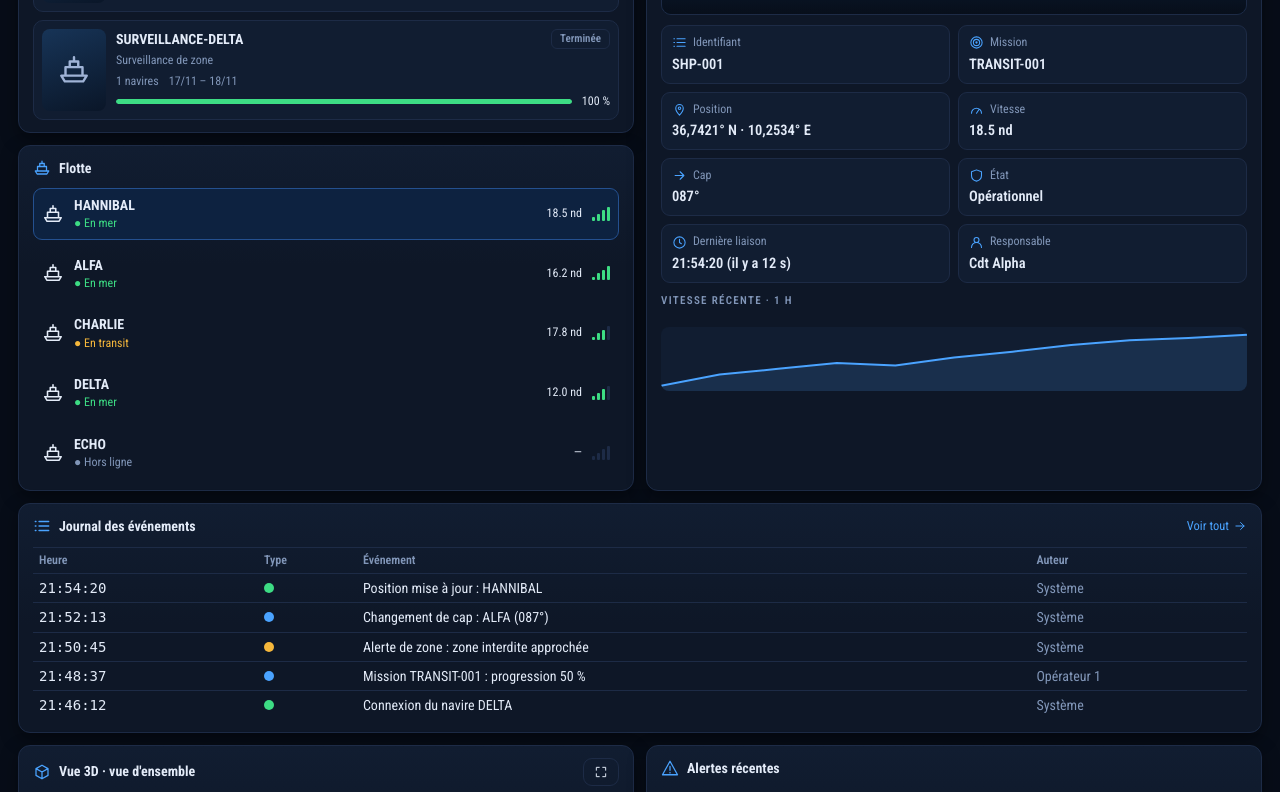
Test: routing and session guards › lands on the dashboard after sign-in and follows the selected ship
The image size is (1280, 792).
(page scrolled)
What coordinates should you click on to do the following:
click the button "DELTA ● En mer 12.0 nd"
I would click on:
 (92, 384)
Its box is [33,367,619,419].
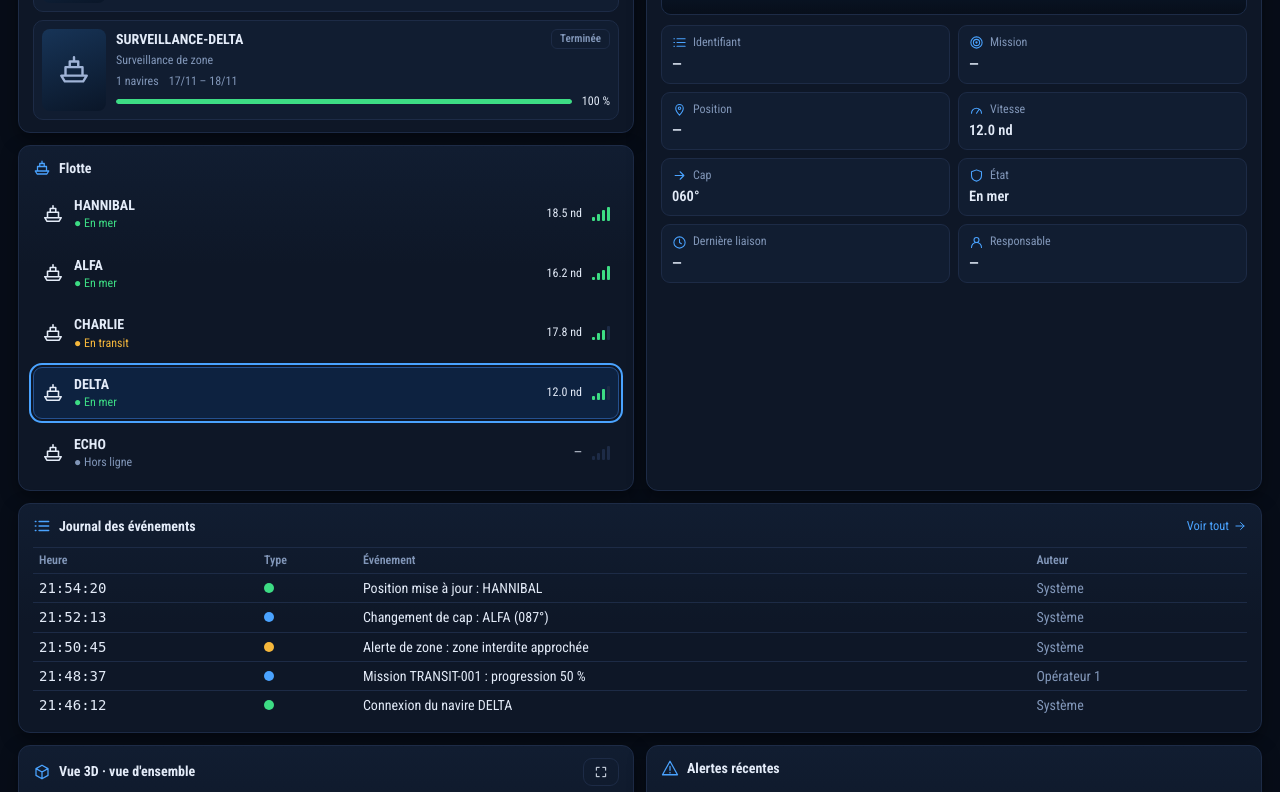
Check: the button "DELTA ● En mer 12.0 nd" is pressed, box [33,367,619,419]
